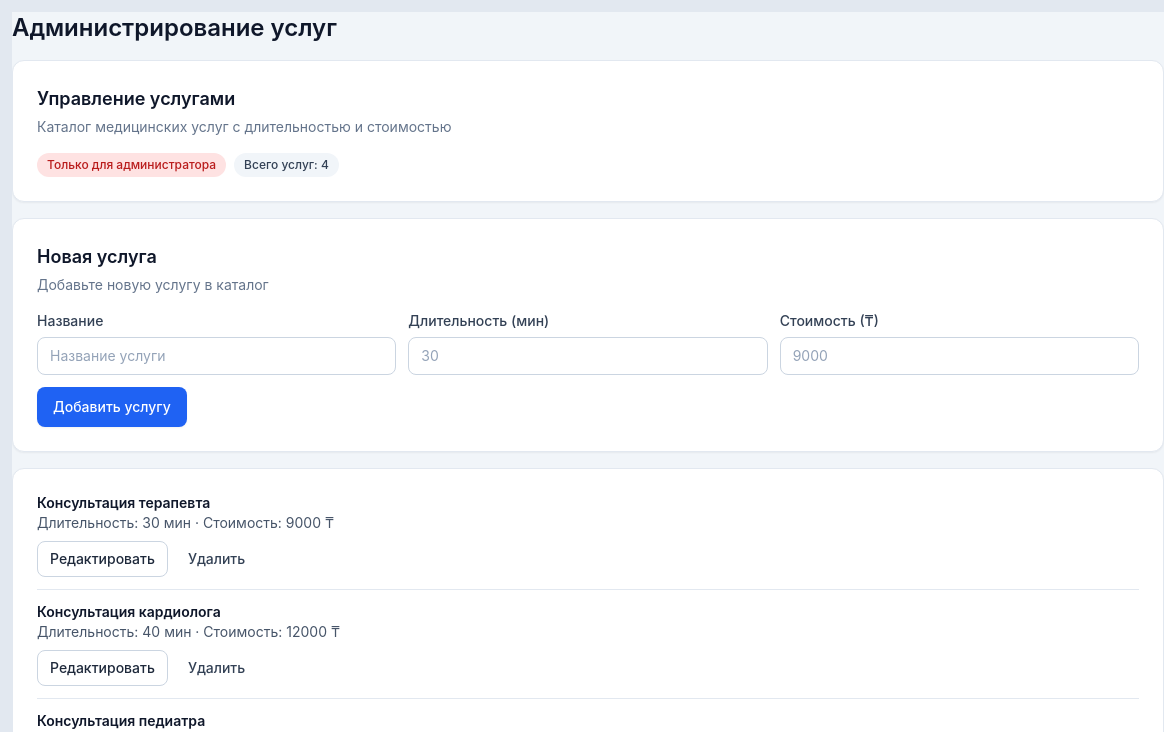
AdminServicesPage integration › редактирует услугу и обновляет данные в списке
Expected: the element "Консультация терапевта" is shown, [37, 494, 334, 577]
Click the button "Редактировать" below "9000" at (102, 559), box [37, 541, 168, 577]
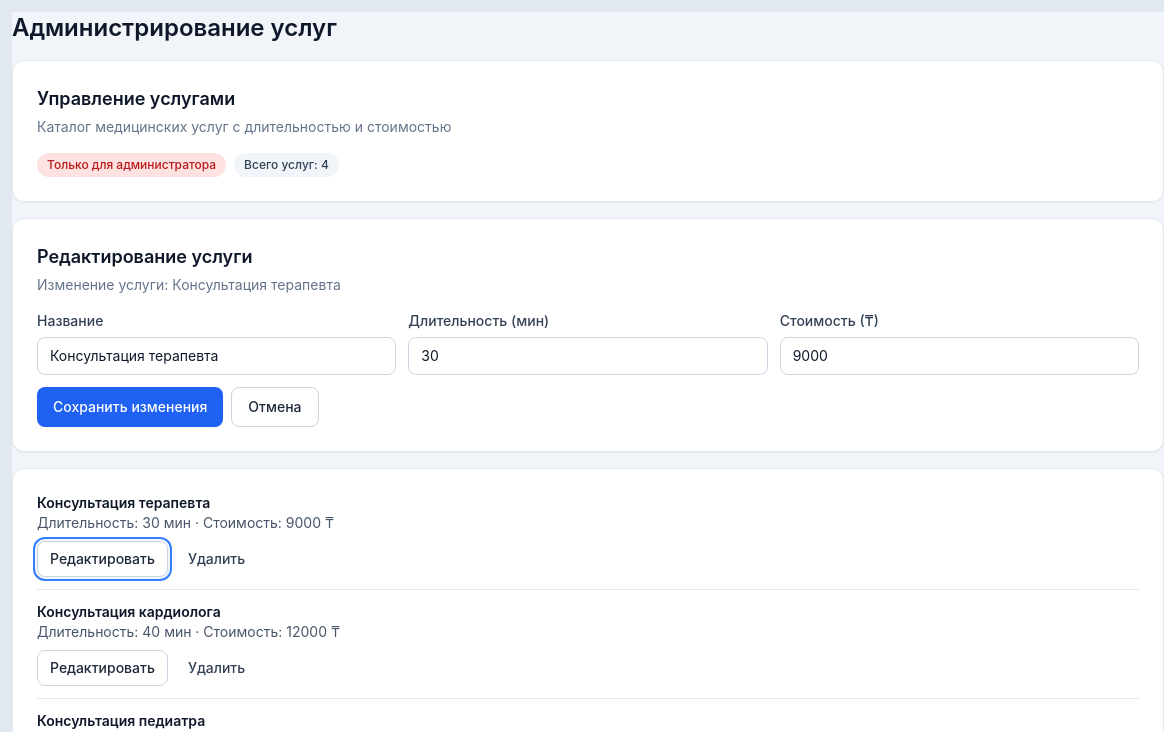
Replace the text in the field labelled "Название" with "Консультация терапевта+" at (217, 356), box [37, 337, 396, 375]
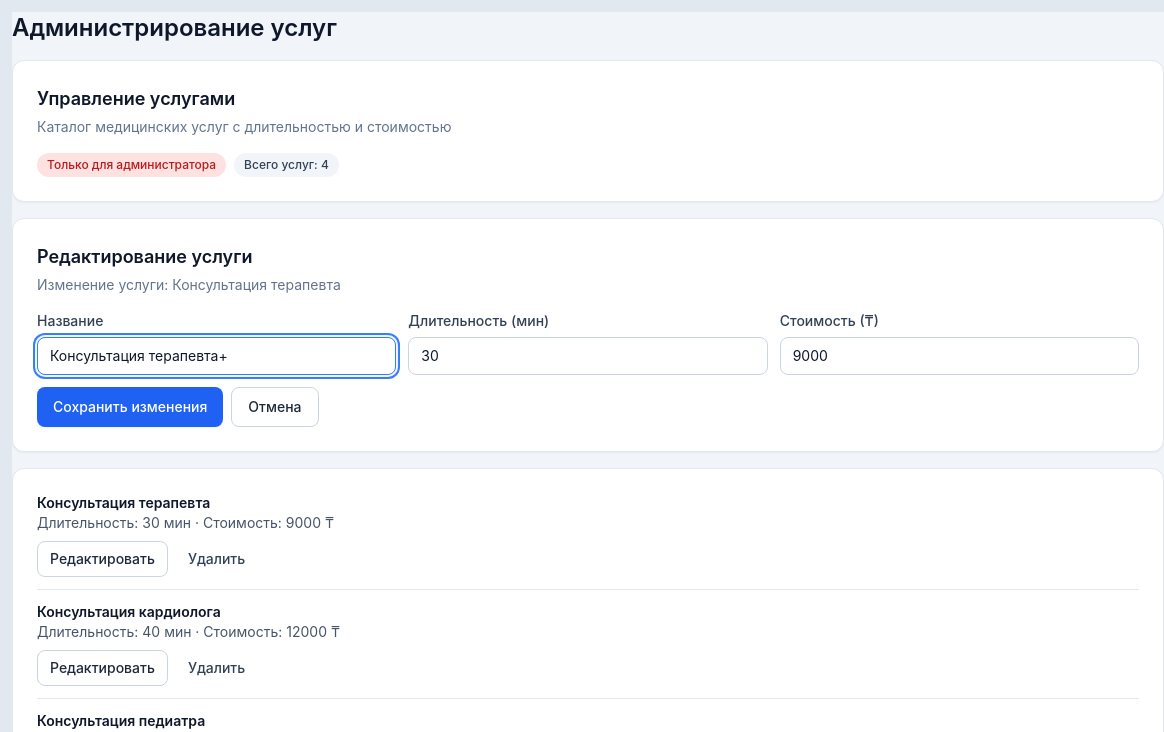
Type "35" into the number field labelled "Длительность (мин)" at (588, 356), box [408, 337, 768, 375]
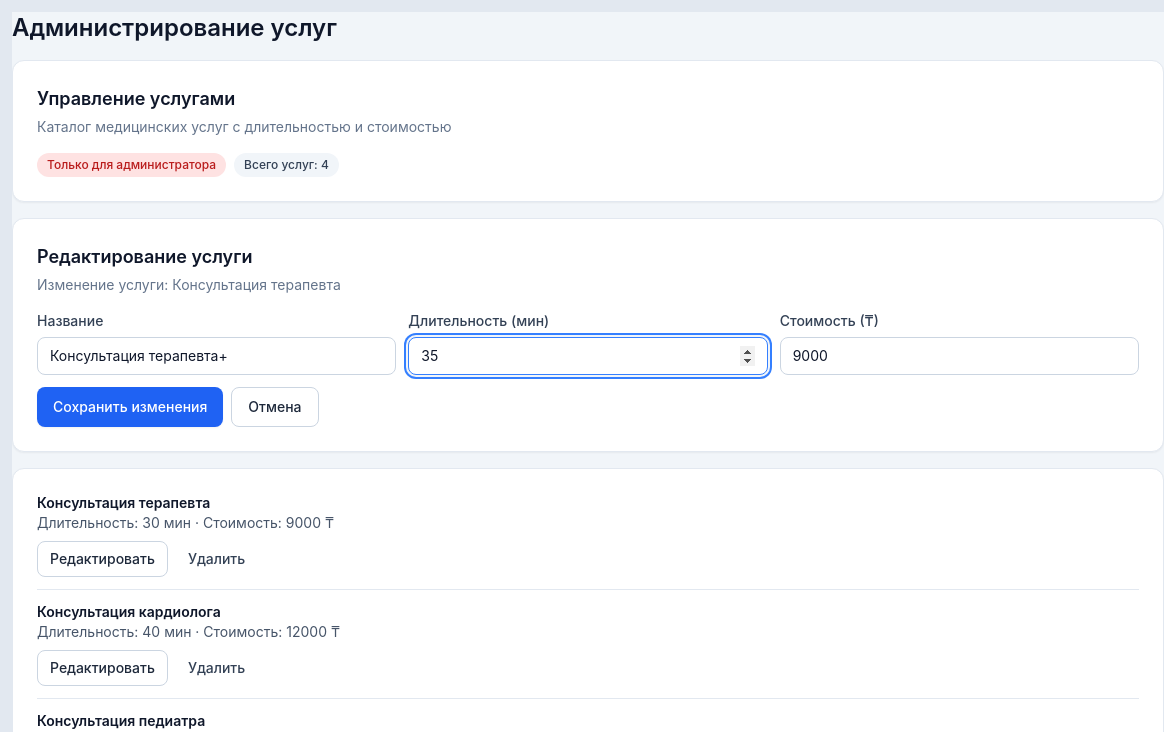
Type "9500" into the number field labelled "Стоимость (₸)" at (959, 356), box [780, 337, 1139, 375]
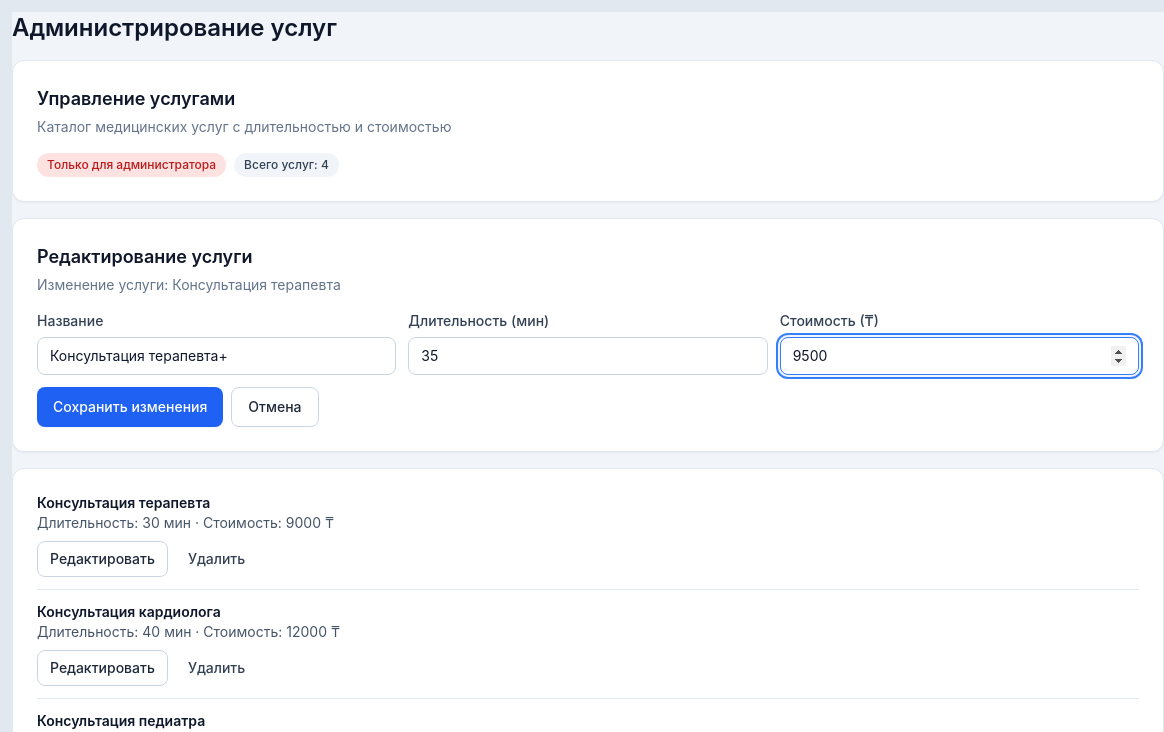
Click the button "Сохранить изменения" at (130, 407), box [37, 387, 223, 427]
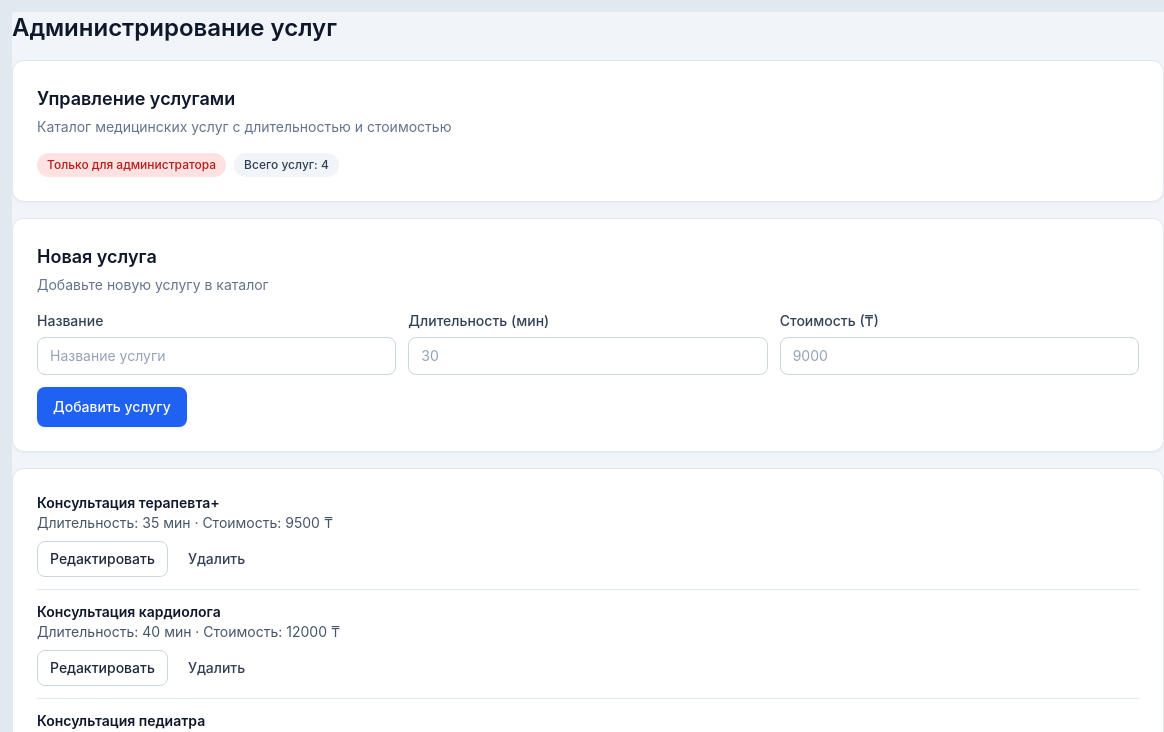
Expected: the heading "Консультация терапевта+" is shown, [37, 494, 220, 511]
Expected: the text "Длительность: 35 мин · Стоимость: 9500 ₸" is shown, [37, 514, 333, 531]
